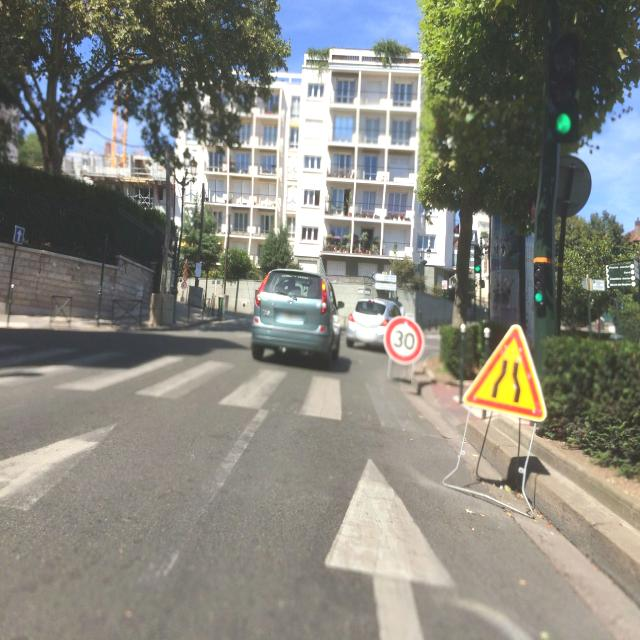car: (251, 266, 343, 369), (346, 297, 404, 351)
